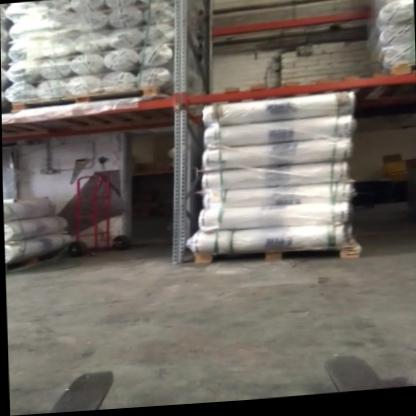vertical_damage: (168, 227, 197, 272)
